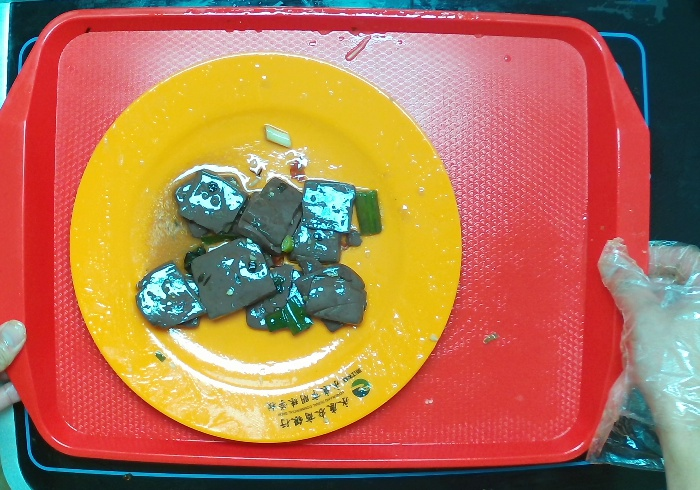YKMZ-Ju_Se_Mian_Pan: (69, 50, 463, 445)
